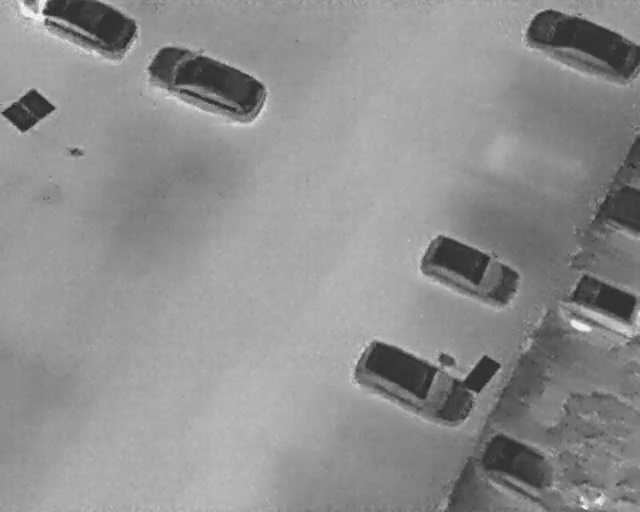Car: (346, 327, 482, 435), (138, 33, 277, 133), (411, 220, 531, 316), (481, 431, 613, 510), (525, 7, 639, 85), (17, 0, 141, 62), (561, 270, 639, 339), (604, 184, 639, 235)
